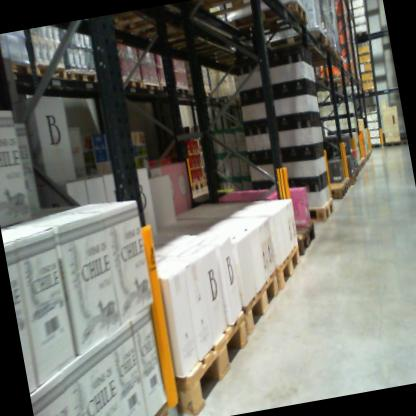pallet: (2, 49, 175, 416), (162, 305, 265, 416), (232, 262, 288, 343), (224, 0, 315, 43), (99, 3, 189, 41), (270, 239, 308, 295), (261, 25, 327, 56), (31, 51, 72, 84), (293, 214, 323, 258), (184, 0, 269, 15), (302, 198, 337, 228), (316, 69, 358, 93), (300, 33, 332, 59), (68, 65, 102, 89), (323, 180, 349, 202), (215, 88, 241, 110), (121, 73, 144, 94), (193, 84, 214, 100), (159, 81, 178, 98), (141, 77, 161, 93), (353, 26, 369, 42), (177, 83, 192, 99), (356, 85, 376, 97), (383, 137, 401, 149), (339, 175, 353, 190), (369, 141, 382, 151)
